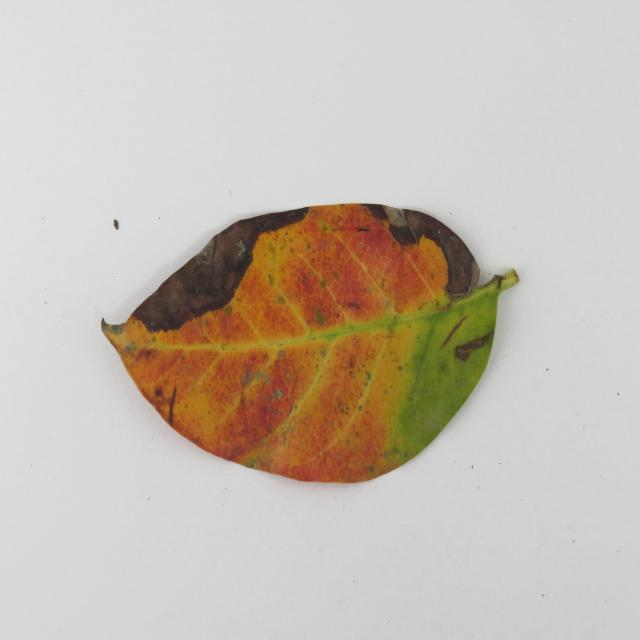DeficienciaNutricional-Fosforo: (101, 203, 519, 482)
